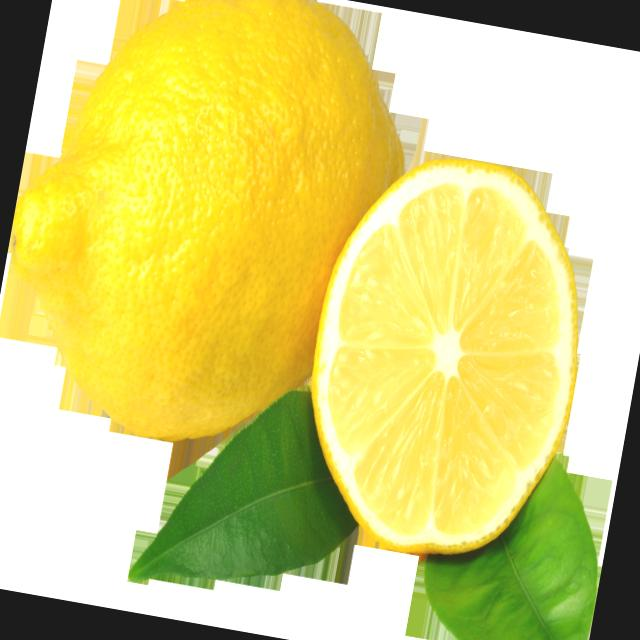mango: (0, 0, 446, 485), (280, 118, 614, 584)
